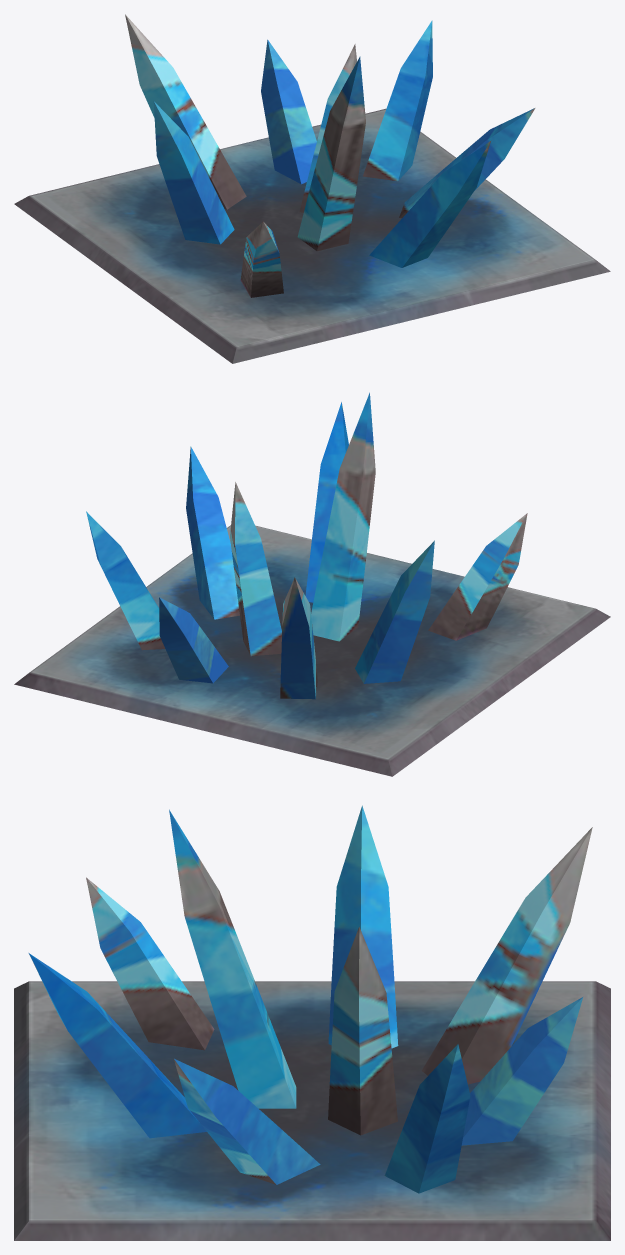
File: tile_spikes_static.fbx
The picture shows the model from 3 angles, top to bottom: view 1: azimuth 30°, elevation 25°; view 2: azimuth 150°, elevation 25°; view 3: azimuth 270°, elevation 25°; orthographic projection. The views are drawn at different scales.
Parts seen in each view (by area): view 1: tile_normal1, tile_spikes1_spike2; view 2: tile_normal1, tile_spikes1_spike2; view 3: tile_normal1, tile_spikes1_spike2.
Boxes of the visible parts, x1,y1,x2,y2 form: tile_normal1: (14,108,610,363); tile_spikes1_spike2: (125,14,535,297); tile_normal1: (14,525,610,776); tile_spikes1_spike2: (86,392,527,699); tile_normal1: (14,981,610,1240); tile_spikes1_spike2: (28,805,592,1193).
Size of the model in its own units: 0.02 by 0.0124 by 0.02.
